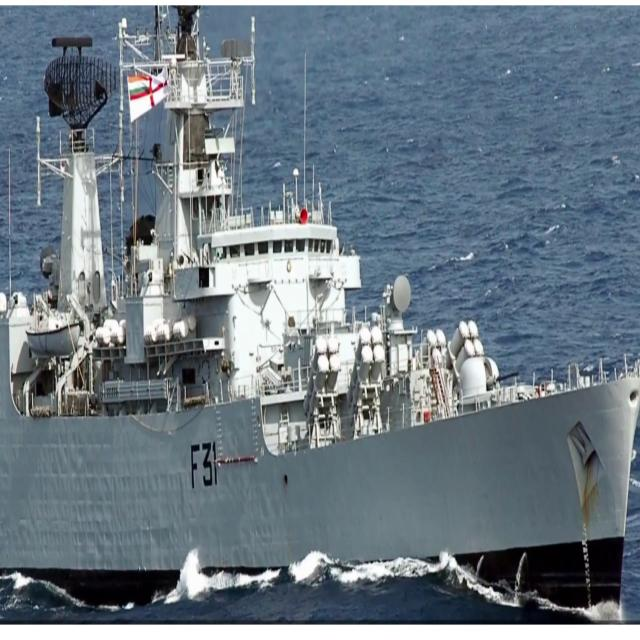OCR: (186, 433, 219, 493)
